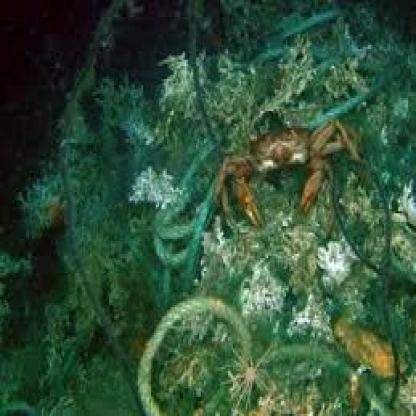net: (86, 34, 416, 416)
